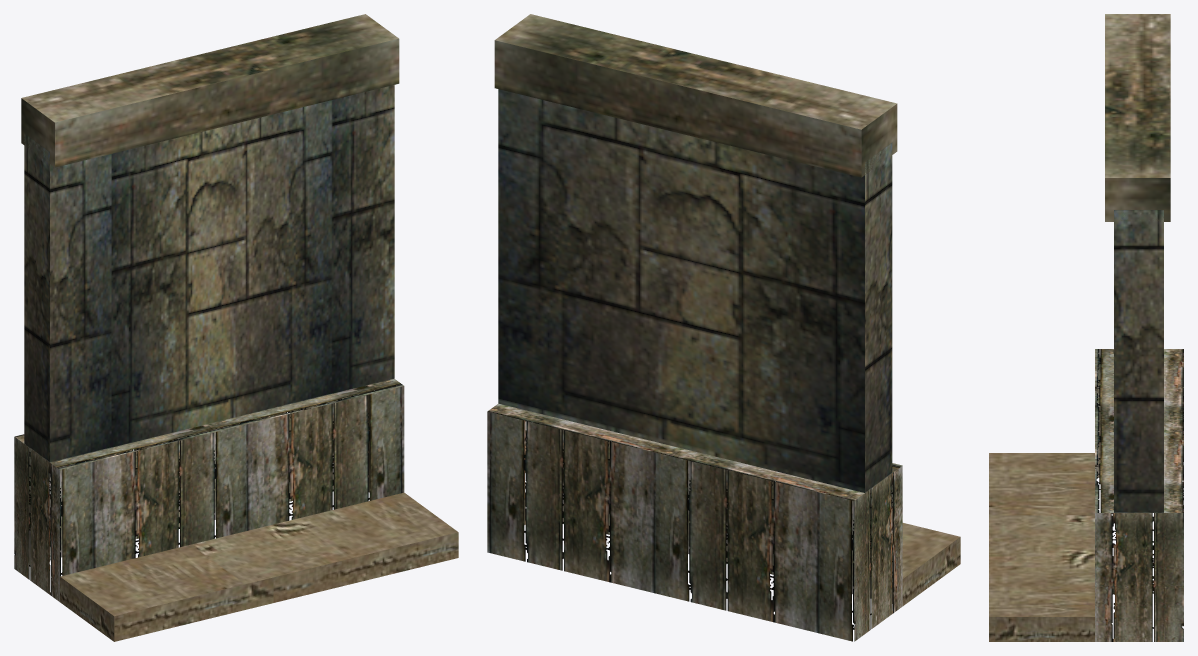
Rendered from HouseWall01.obj.
3 views of the same model, side by side, from view 1: azimuth 30°, elevation 25°; view 2: azimuth 150°, elevation 25°; view 3: azimuth 270°, elevation 25° (orthographic). The views are drawn at different scales.
Parts seen in each view (by area): view 1: Mesh_0, Mesh_1, Mesh_2; view 2: Mesh_0, Mesh_1, Mesh_2; view 3: Mesh_1, Mesh_2, Mesh_0.
Boxes of the visible parts, x1,y1,x2,y2 form: Mesh_0: (24, 85, 394, 462); Mesh_1: (14, 14, 404, 601); Mesh_2: (60, 492, 458, 641); Mesh_0: (498, 89, 892, 492); Mesh_1: (487, 14, 902, 641); Mesh_2: (902, 523, 960, 605); Mesh_1: (1095, 14, 1183, 641); Mesh_2: (989, 453, 1094, 641); Mesh_0: (1114, 210, 1163, 512).
Bounding box in the file's own units: 2 × 2.64 × 1.
3 materials, 3 textured.
